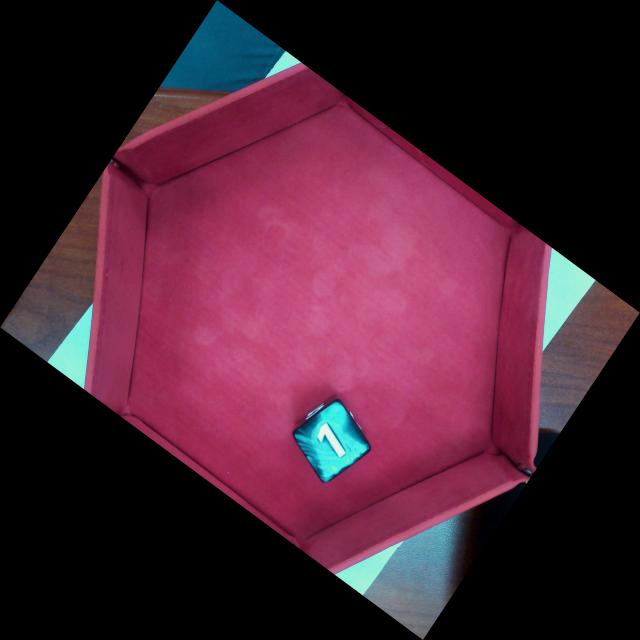dice: (293, 401, 370, 482)
